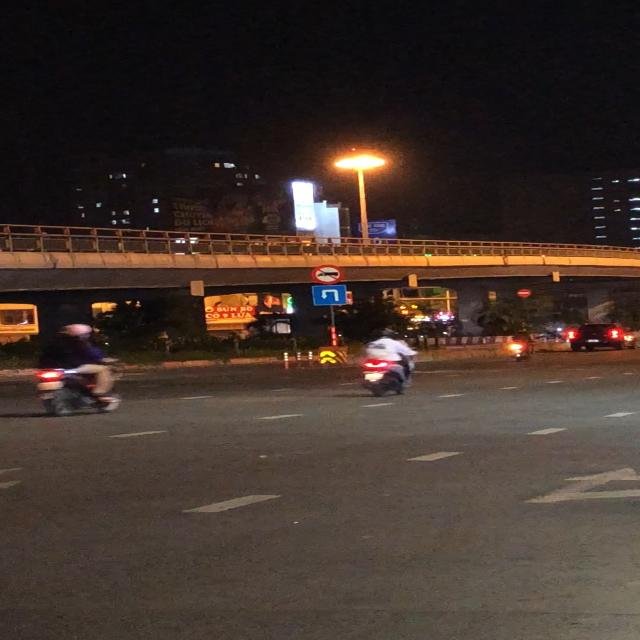Bien bao cam xe so-mi ro-mooc: (309, 264, 344, 286)
